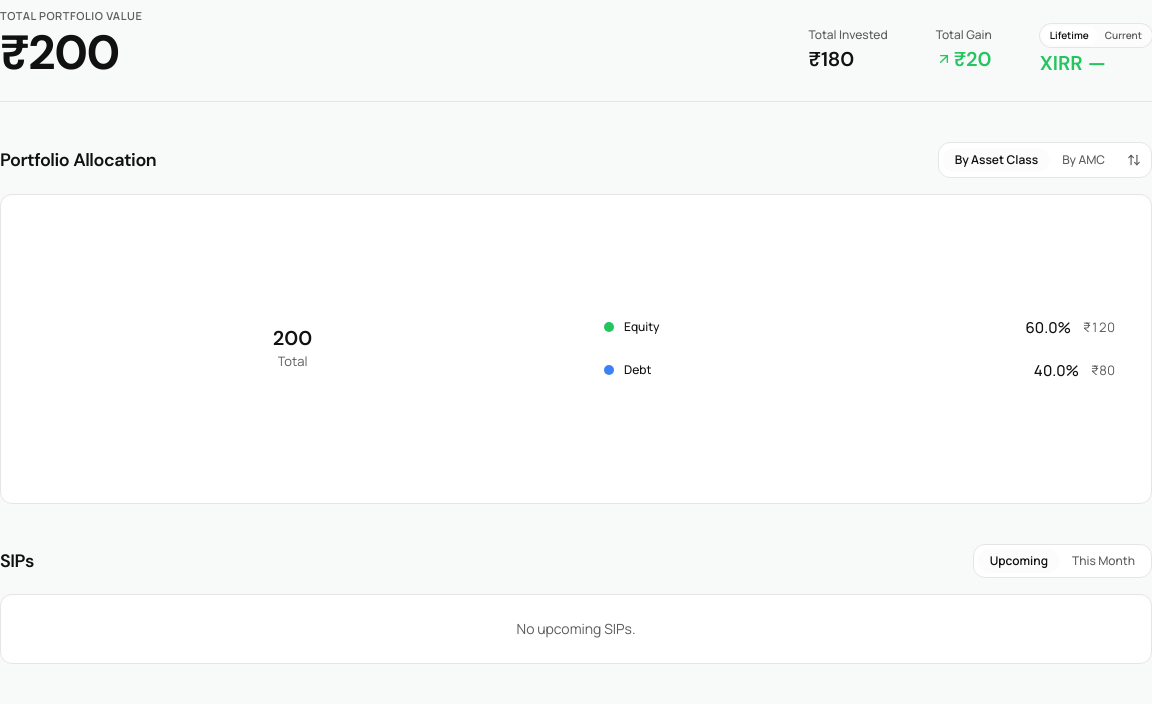
Test: DashboardView › opens the shared holding drill-down from AMC and asset-class allocation rows
The image size is (1152, 704).
Click the button "Equity 60.0% ₹120" at [642, 326], box [592, 308, 1127, 346]
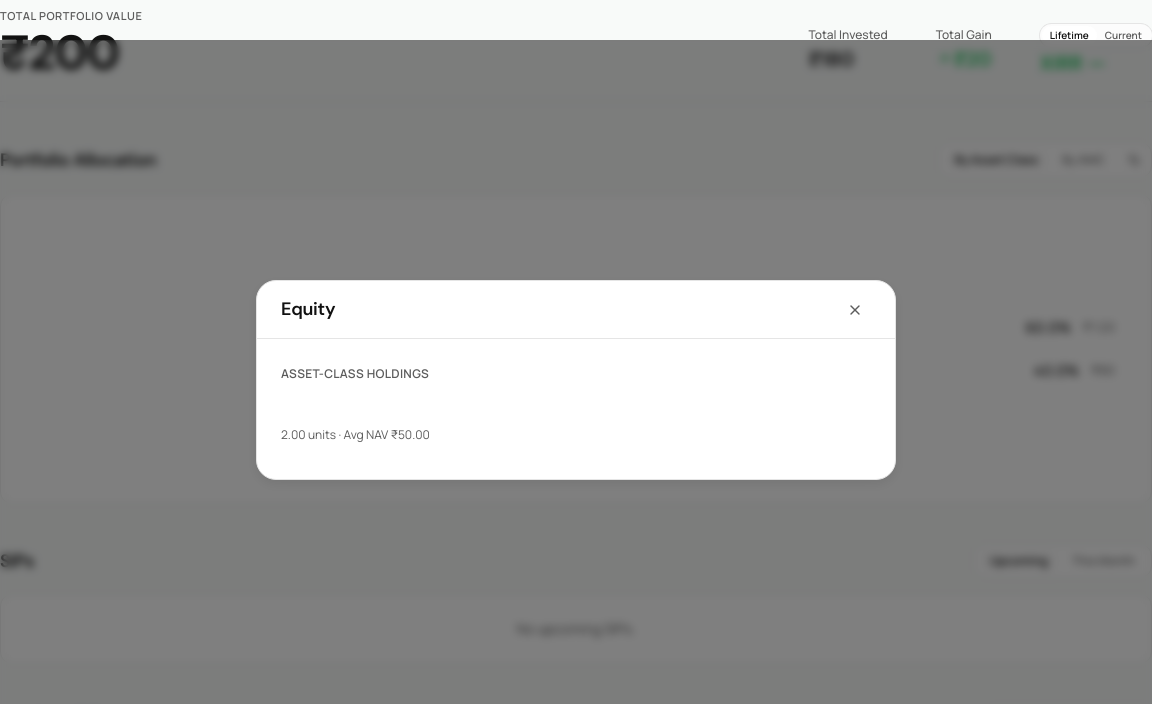
Now the dialog "Equity" is shown, box [256, 280, 896, 480]
Click the button named "Close modal" at [855, 310], box [839, 298, 871, 322]
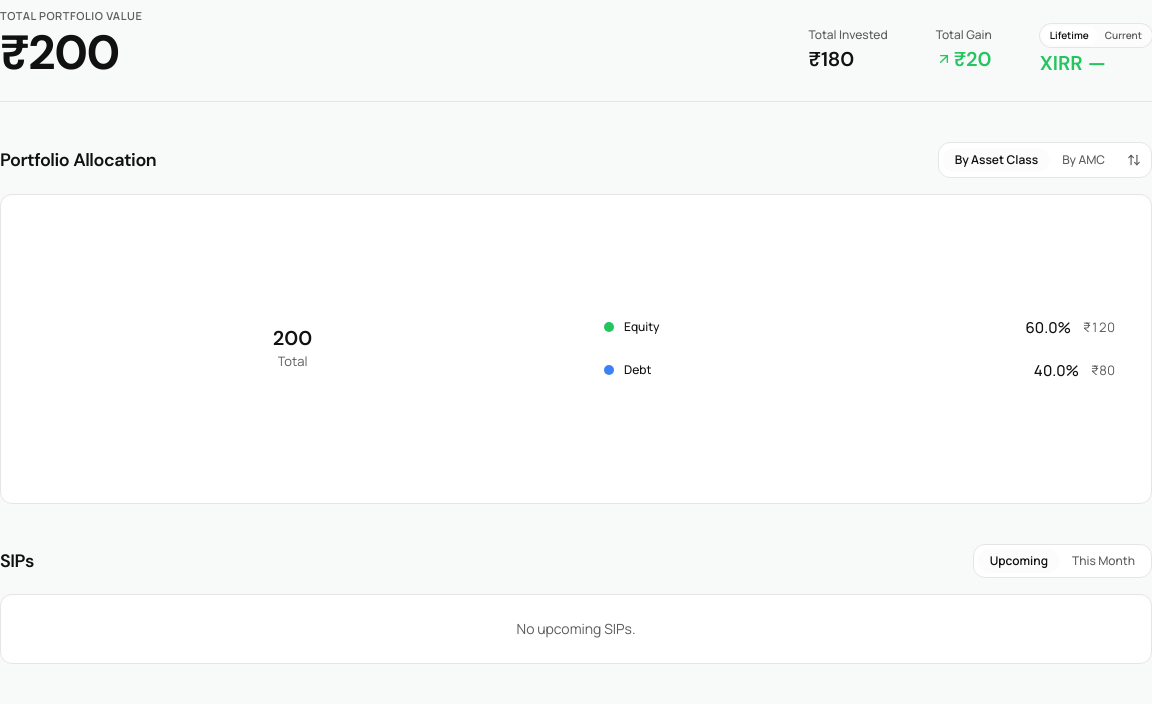
Click the button "By AMC" at [1084, 160], box [1050, 148, 1117, 172]
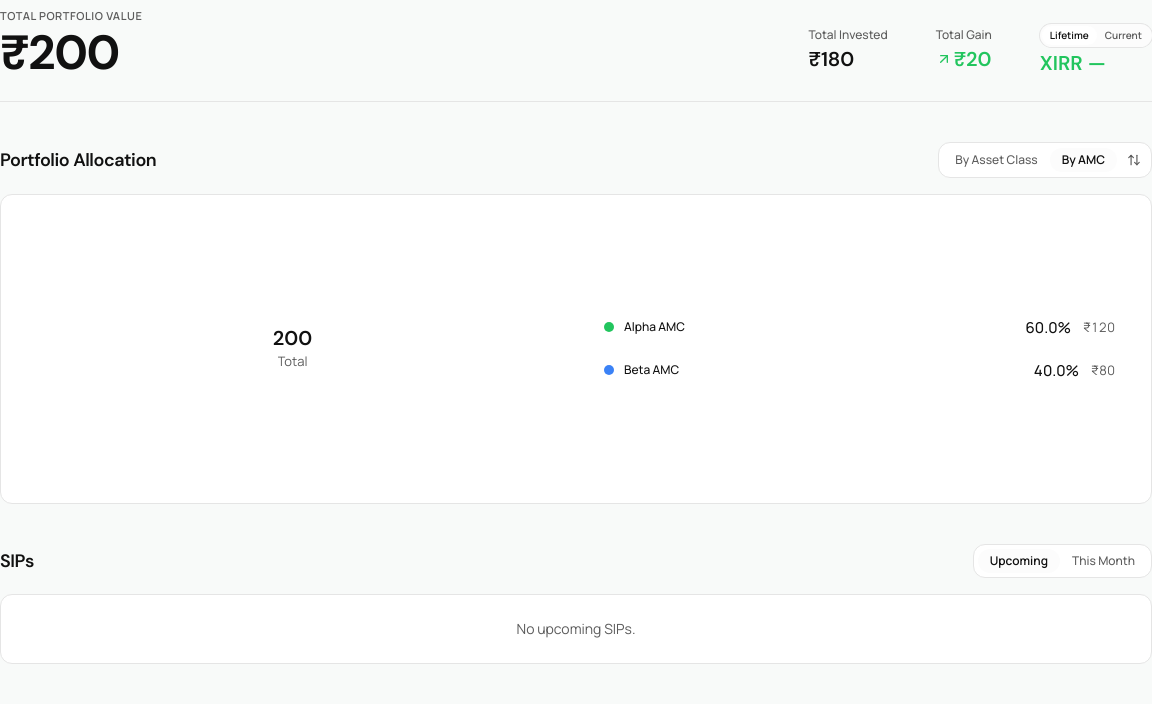
Click the button "Alpha AMC 60.0% ₹120" at [654, 326], box [592, 308, 1127, 346]
(page scrolled)
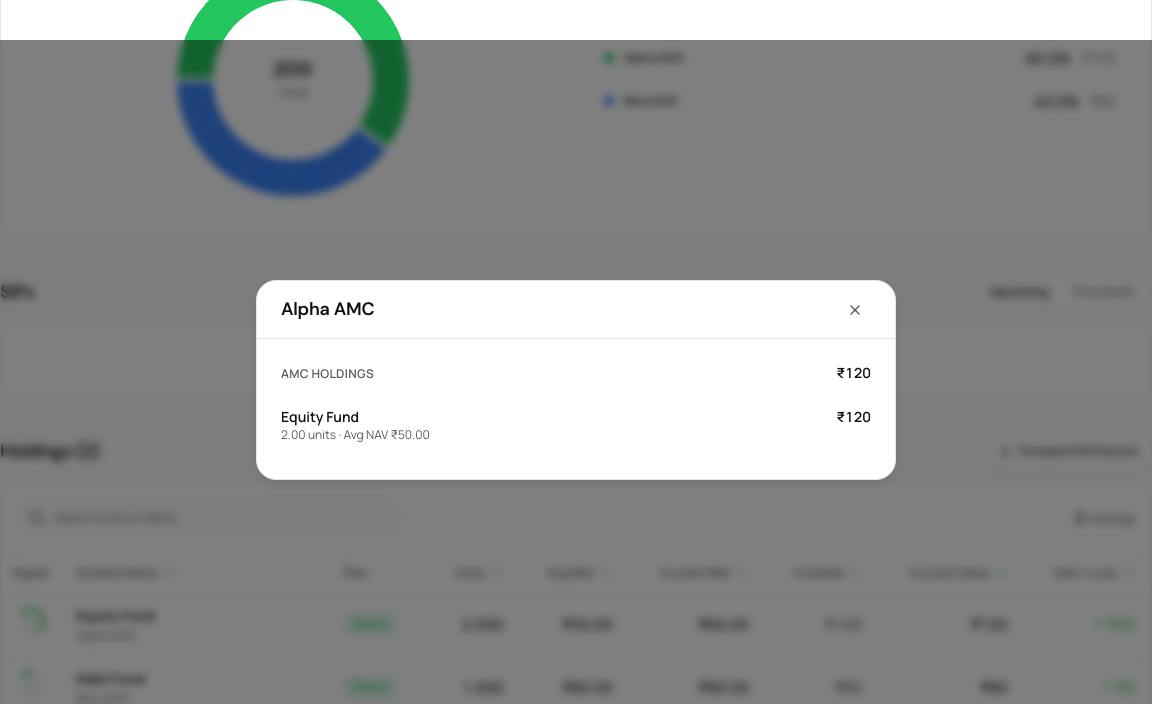
Expected: the text "Equity Fund" in the row of "2.000" is shown, [77, 606, 155, 624]
Now the dialog "Alpha AMC" is shown, box [256, 280, 896, 480]
